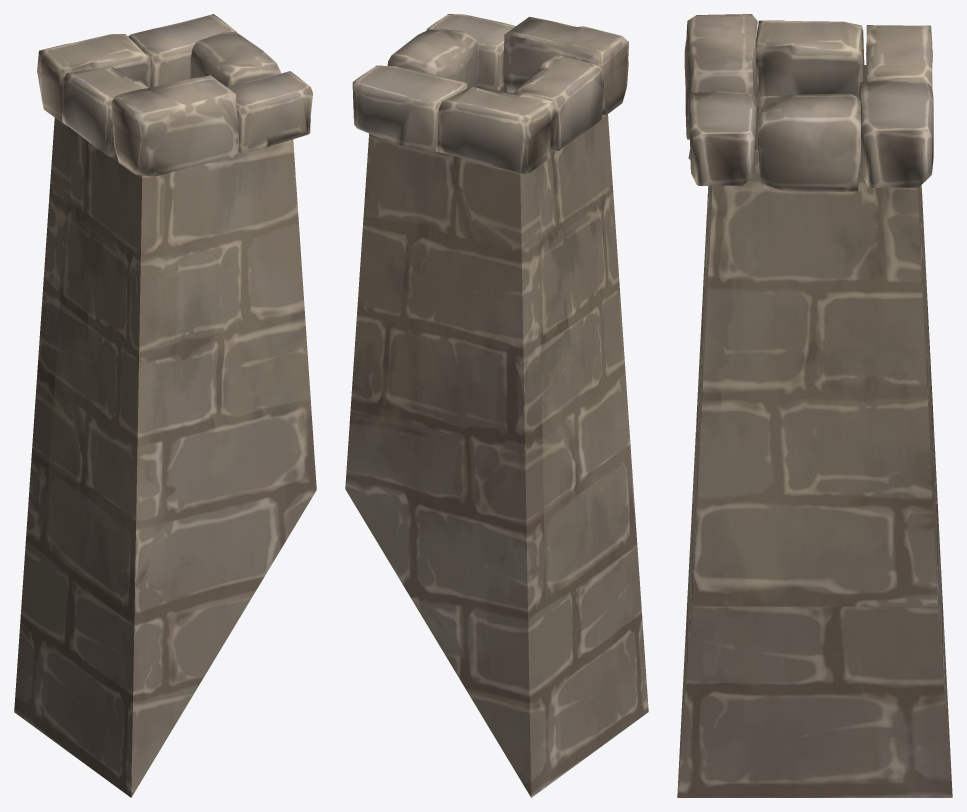
File: Prop_Chimney.gltf
The picture shows the model from 3 angles, left to right: view 1: azimuth 30°, elevation 25°; view 2: azimuth 150°, elevation 25°; view 3: azimuth 270°, elevation 25°; orthographic projection. The views are drawn at different scales.
Visible parts, largest first — view 1: Prop_Chimney; view 2: Prop_Chimney; view 3: Prop_Chimney.
Part boxes in pixels (box(x1,y1,x2,y2)): Prop_Chimney: box(14, 14, 316, 797); Prop_Chimney: box(345, 14, 648, 797); Prop_Chimney: box(677, 14, 952, 797).
Bounding box in the file's own units: 0.9458 × 3.18 × 1.
Materials: 2 (2 with a texture image).
